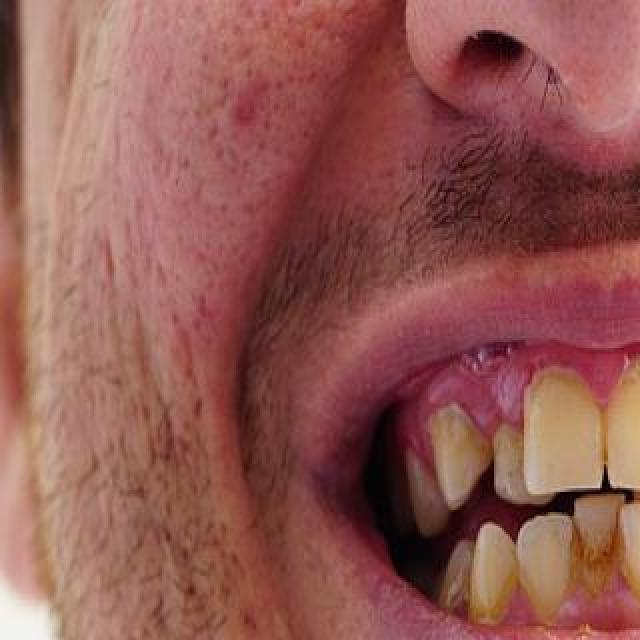calculus: (514, 367, 598, 435), (461, 569, 521, 637), (430, 401, 480, 461), (518, 577, 568, 631), (610, 356, 640, 436), (487, 418, 529, 468), (626, 570, 640, 620)
maligned: (474, 424, 556, 504), (573, 487, 623, 597), (614, 492, 640, 612), (628, 428, 640, 508)
stains: (569, 512, 629, 606)
